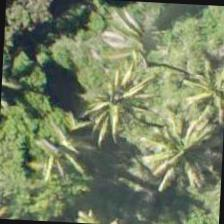Kelapa_Sawit: (48, 48, 144, 144), (12, 99, 108, 194), (109, 98, 204, 193), (89, 0, 184, 92), (158, 47, 223, 141)
